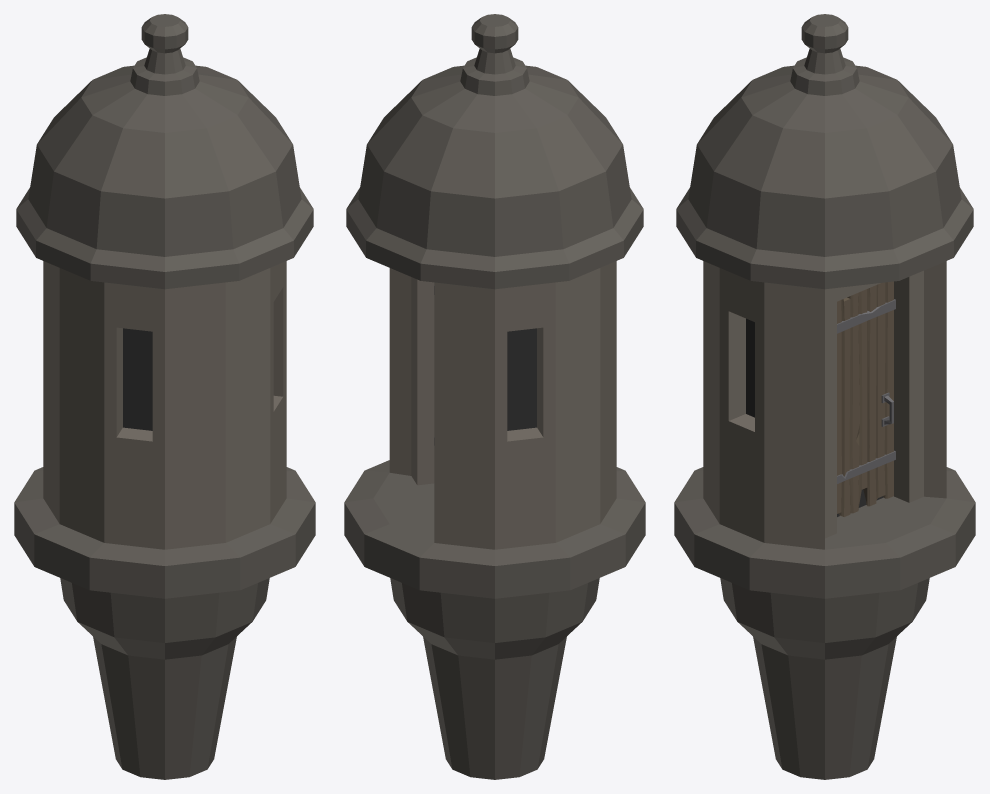
The model's file is SM_Bld_Fort_Door_04.glb.
3 views of the same model, side by side, from view 1: azimuth 30°, elevation 25°; view 2: azimuth 150°, elevation 25°; view 3: azimuth 270°, elevation 25° (orthographic).
Visible parts, largest first — view 1: SM_Bld_Fort_Door_04_part00; view 2: SM_Bld_Fort_Door_04_part00; view 3: SM_Bld_Fort_Door_04_part00.
Boxes of the visible parts, left/top/right/bottom form: SM_Bld_Fort_Door_04_part00: left=14, top=14, right=315, bottom=779; SM_Bld_Fort_Door_04_part00: left=344, top=14, right=645, bottom=779; SM_Bld_Fort_Door_04_part00: left=674, top=14, right=975, bottom=779.
Size of the model in its own units: 2.41 by 6.52 by 2.41.
Materials: 1 (1 with a texture image).
